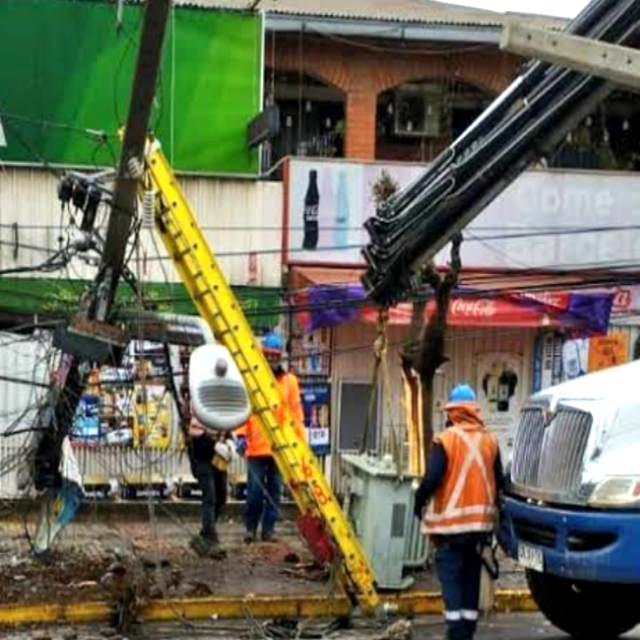Broken Pole: (28, 3, 172, 489)
